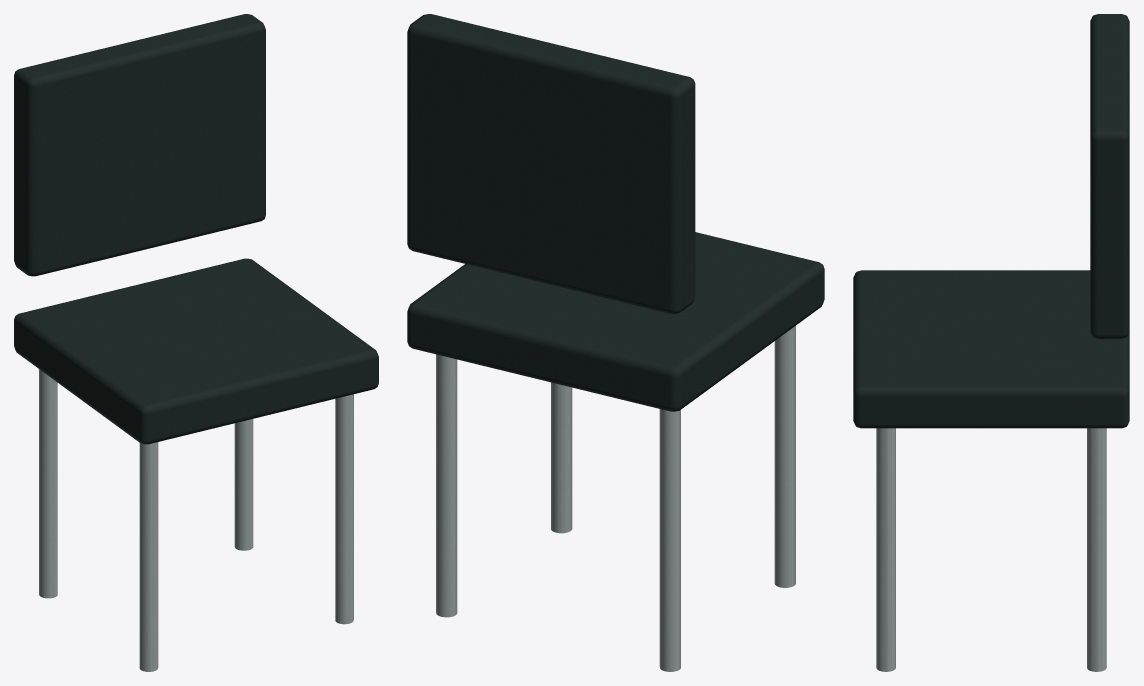
File: detail-staff-chair-0.glb
The picture shows the model from 3 angles, left to right: view 1: azimuth 30°, elevation 25°; view 2: azimuth 150°, elevation 25°; view 3: azimuth 270°, elevation 25°; orthographic projection. The views are drawn at different scales.
Parts seen in each view (by area): view 1: back, seat, chair_leg (×4); view 2: back, seat, chair_leg (×4); view 3: seat, back, chair_leg (×2).
Boxes of the visible parts, x1,y1,x2,y2 form: back: (14, 14, 265, 276); seat: (14, 258, 378, 444); chair_leg (×4): (39, 369, 353, 671); back: (407, 14, 695, 314); seat: (407, 232, 824, 411); chair_leg (×4): (436, 326, 795, 671); seat: (853, 270, 1129, 428); back: (1090, 14, 1129, 338); chair_leg (×2): (876, 428, 1106, 671).
Size of the model in its own units: 0.44 by 0.915 by 0.42.
2 materials, 2 textured.
